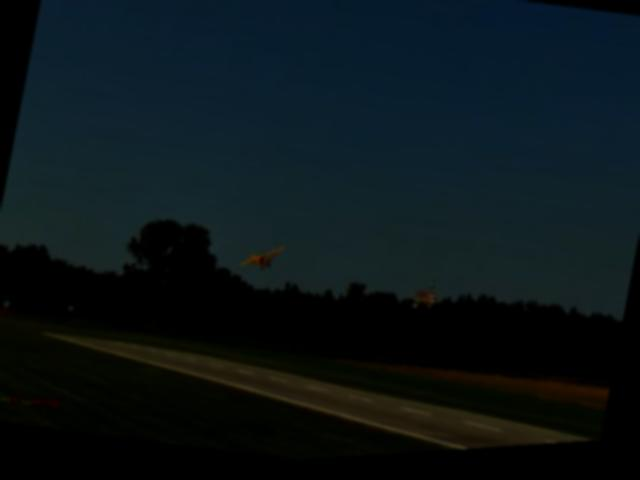uav: (236, 233, 288, 283)
